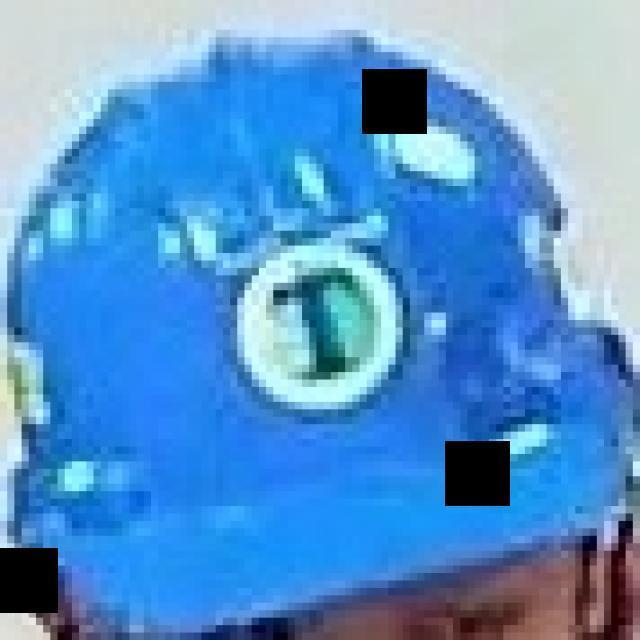blue helmet: (8, 29, 640, 579)
